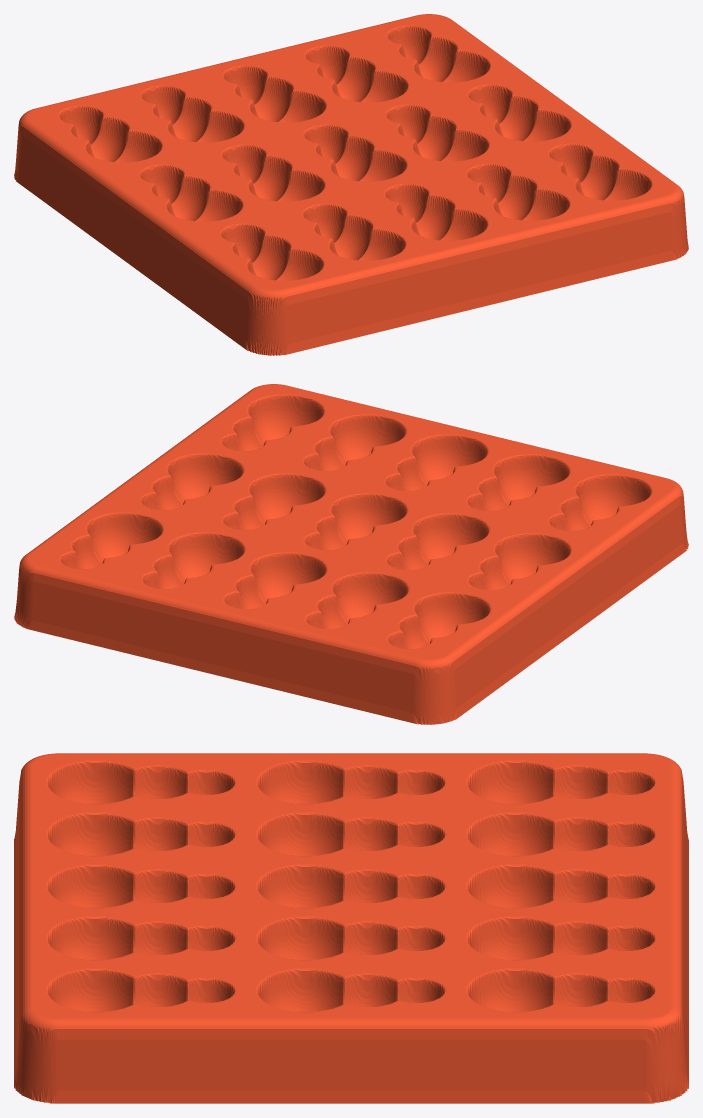
Rendered from mold.glb.
The picture shows the model from 3 angles, top to bottom: view 1: azimuth 30°, elevation 25°; view 2: azimuth 150°, elevation 25°; view 3: azimuth 270°, elevation 25°; orthographic projection. The views are drawn at different scales.
Visible parts, largest first — view 1: geometry_0; view 2: geometry_0; view 3: geometry_0.
Boxes of the visible parts, left/top/right/bottom form: geometry_0: left=14, top=14, right=688, bottom=355; geometry_0: left=14, top=384, right=688, bottom=724; geometry_0: left=14, top=753, right=688, bottom=1103.
Size of the model in its own units: 0.1351 by 0.0175 by 0.1381.
